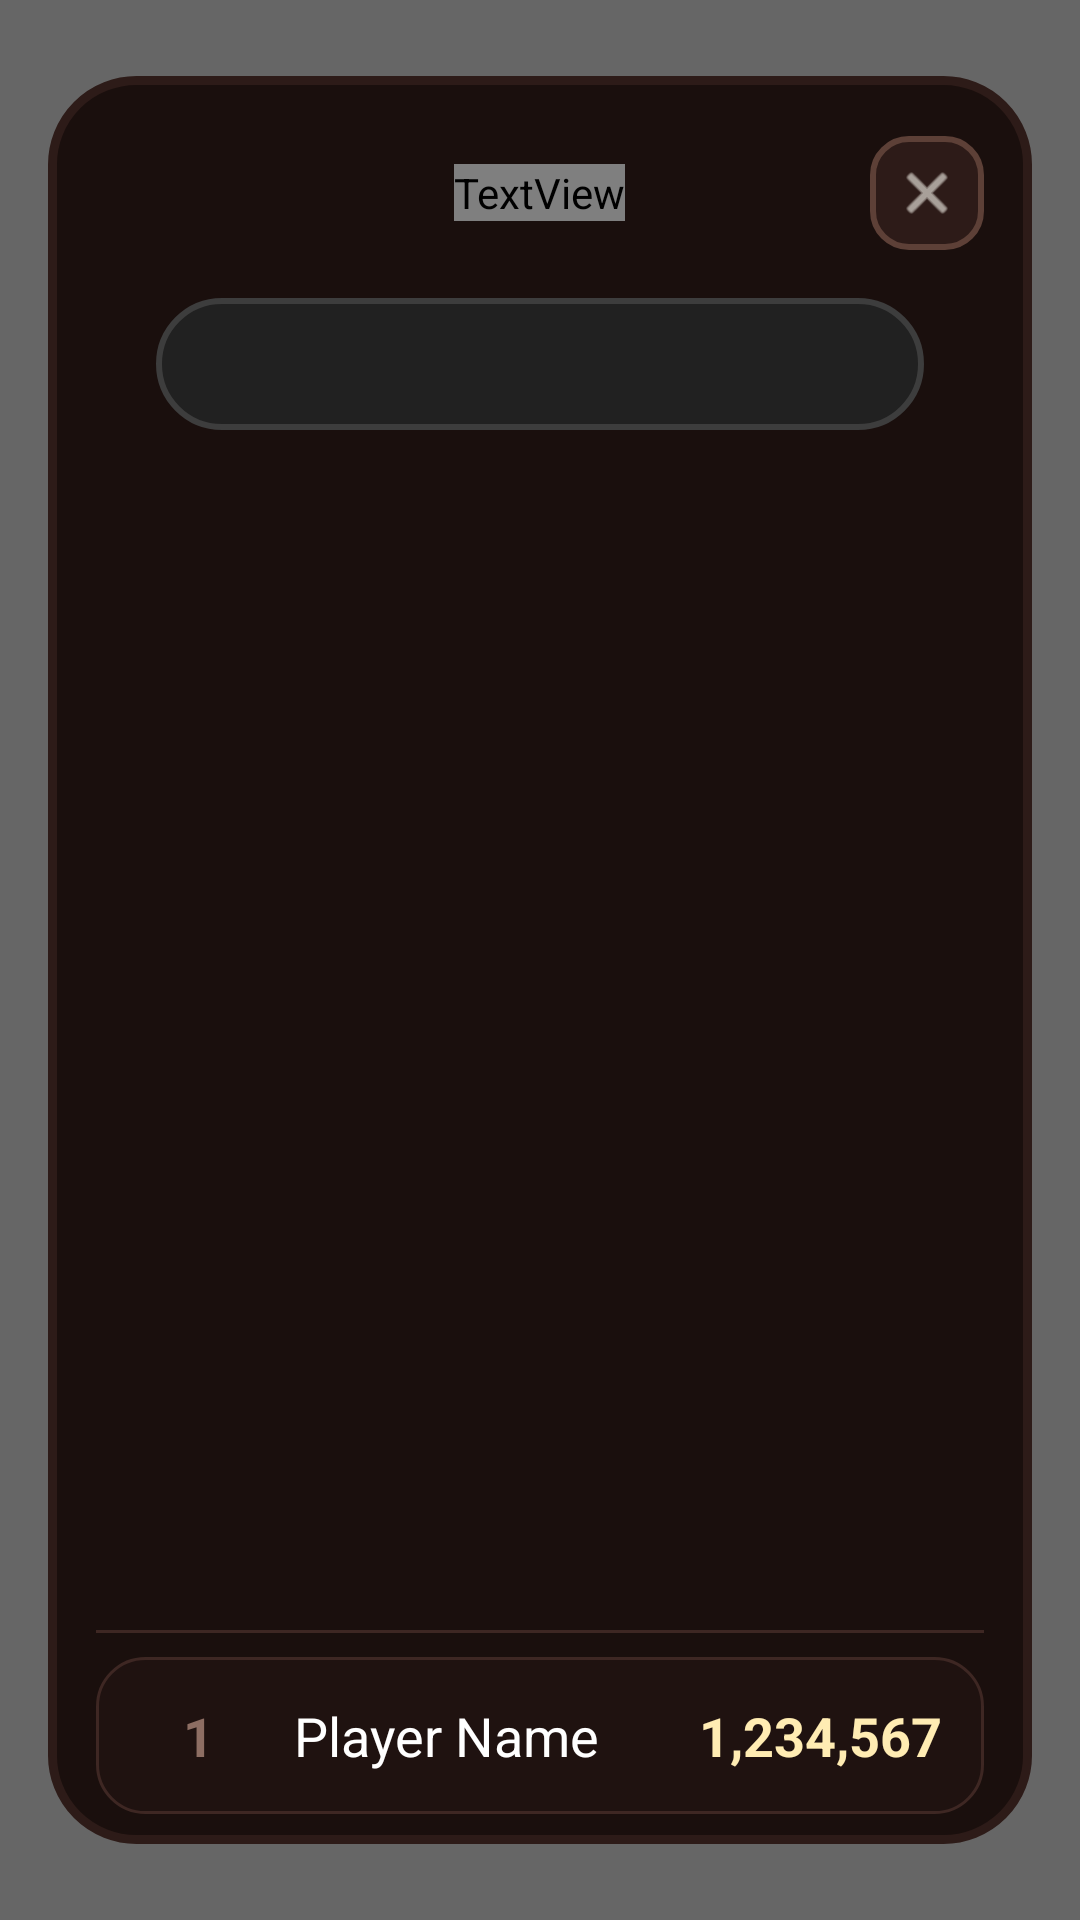

Icon bounding boxes for this 1080×1920 phone screenshot, format (x1, y1, x2, y2):
close clear cancel: (870, 136, 984, 250)
